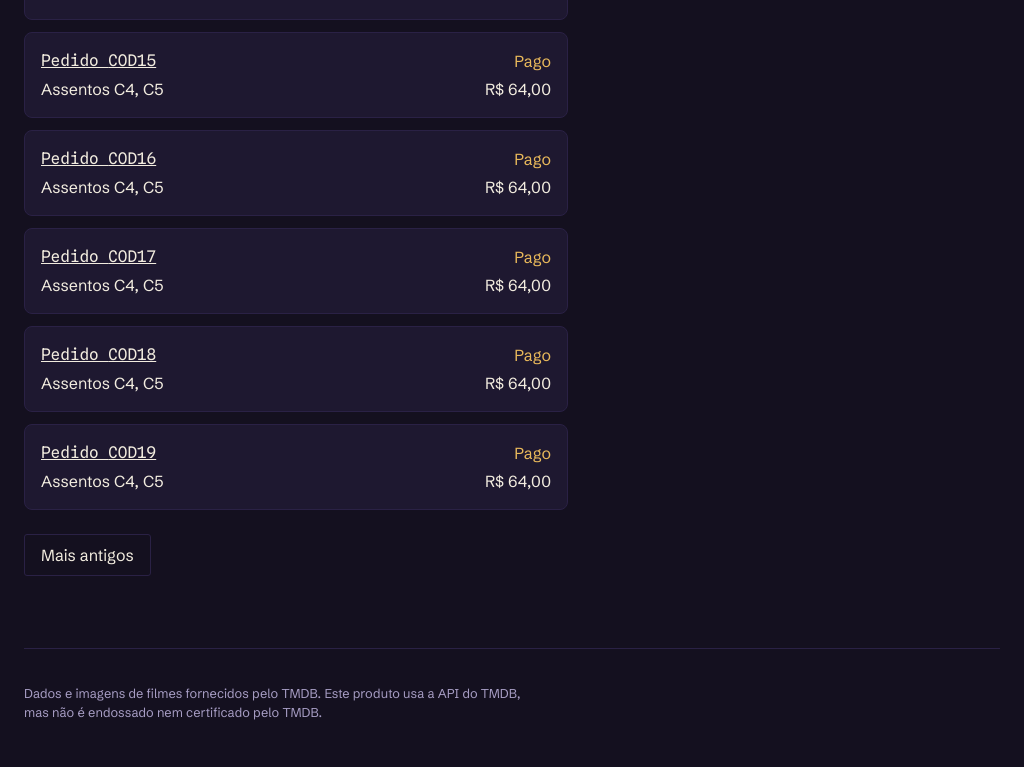
Scenario: meus pedidos › página cheia oferece a próxima
The image size is (1024, 767).
(page scrolled)
Click the button "Mais antigos": point(87, 555) [24,534,151,576]
(page scrolled)
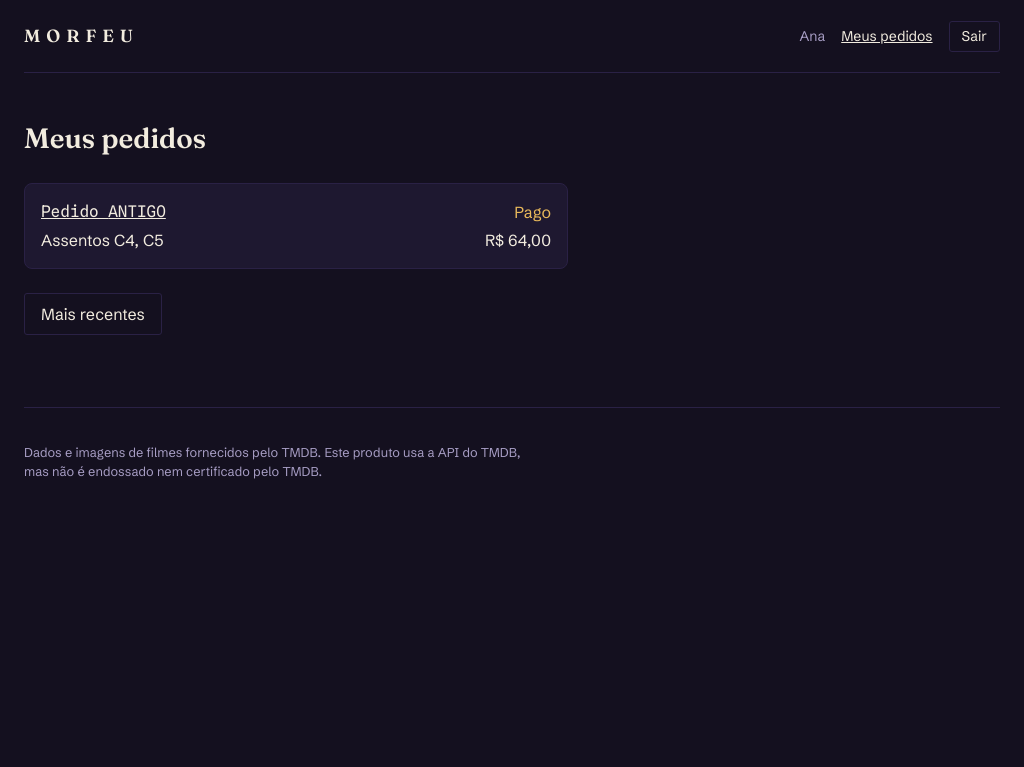
Check: the link "Pedido ANTIGO" is shown, box [41,202,166,221]
Check: the button "Mais recentes" is shown, box [24,293,162,335]
